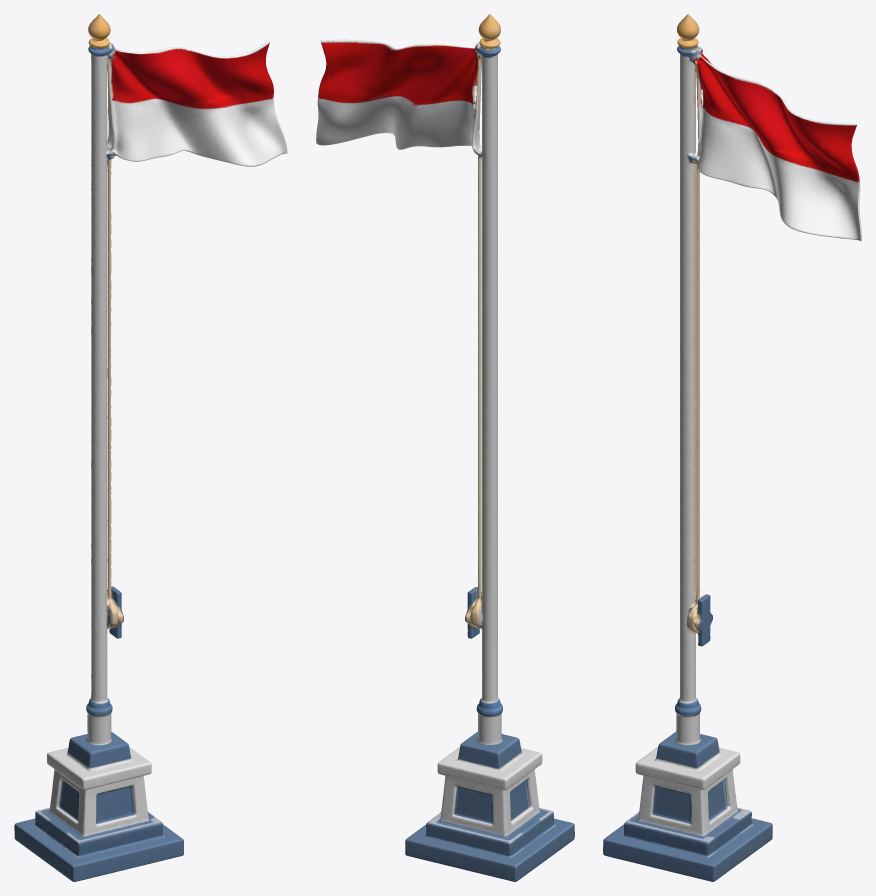
The model's file is Meshy_AI_Indonesian_Flag_on_a__1022073841_texture.fbx.
3 renders of one model, left to right at view 1: azimuth 30°, elevation 25°; view 2: azimuth 150°, elevation 25°; view 3: azimuth 330°, elevation 25°, orthographic.
Visible parts, largest first — view 1: Mesh_0; view 2: Mesh_0; view 3: Mesh_0.
Boxes of the visible parts, x1,y1,x2,y2 form: Mesh_0: (14,14,287,881); Mesh_0: (316,14,574,881); Mesh_0: (603,14,861,881).
Size of the model in its own units: 56.41 by 190 by 24.52.
Materials: 1 (1 with a texture image).
